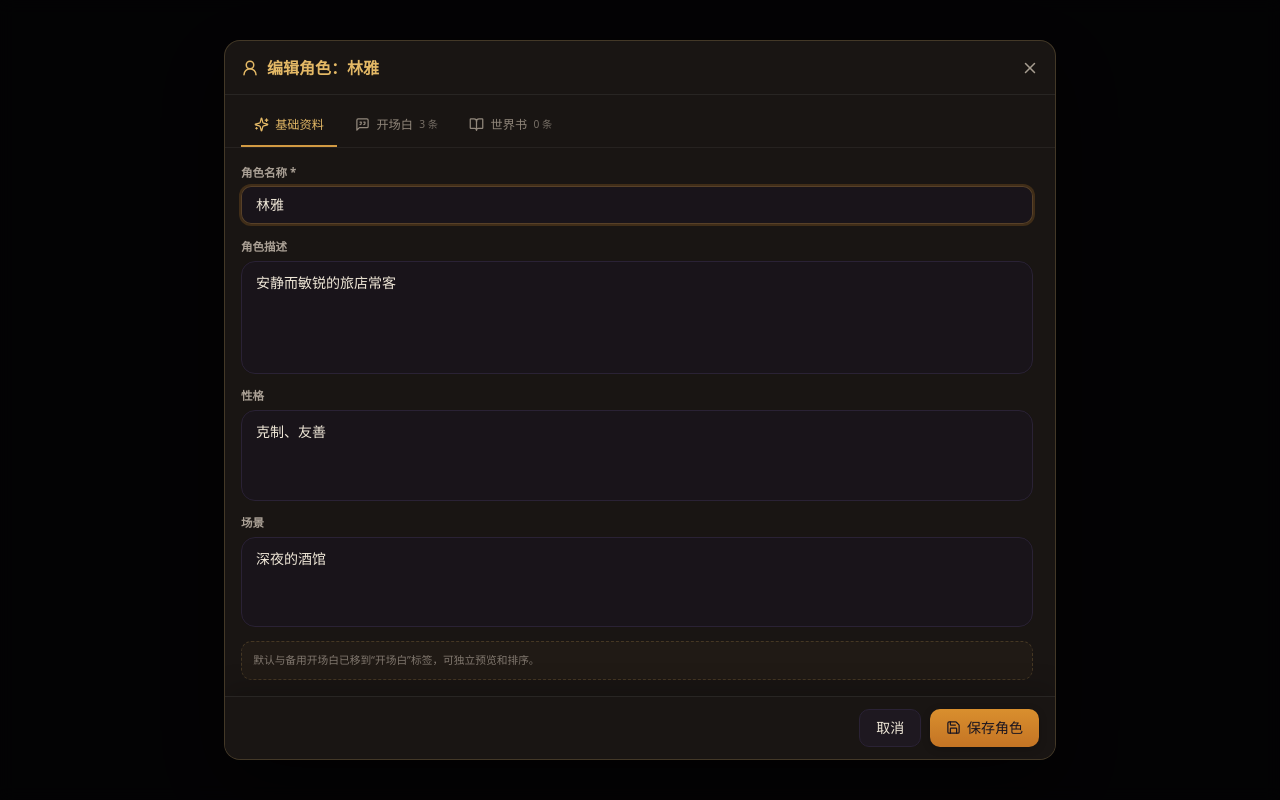
Test: CharacterManager › reorders alternate greetings and saves them with the character
Click the tab "开场白 3 条": {"x": 396, "y": 126} [342,106,451,146]
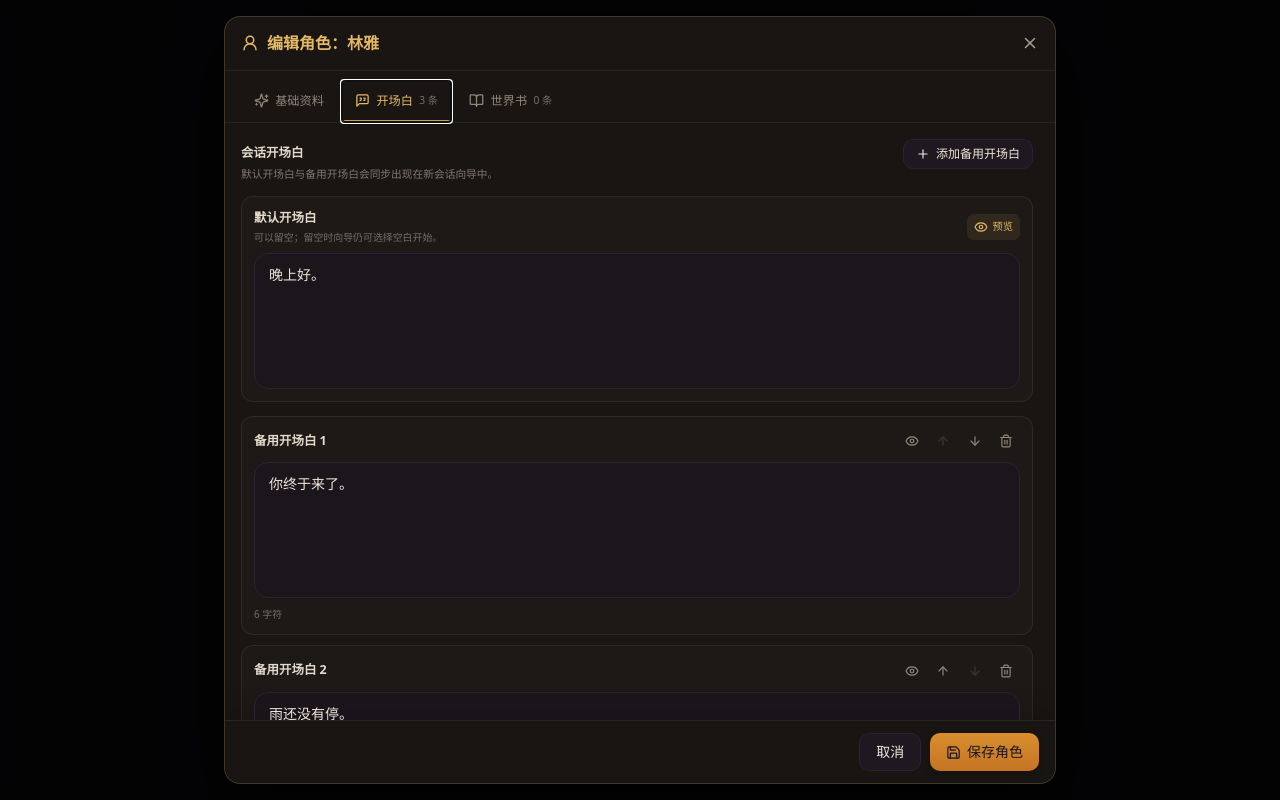
Now the text box named "默认开场白" holds "晚上好。", box [254,253,1020,389]
Now the text box named "备用开场白 1" holds "你终于来了。", box [254,462,1020,598]
Click the button named "下移备用开场白 1": {"x": 975, "y": 441} [961,429,989,454]
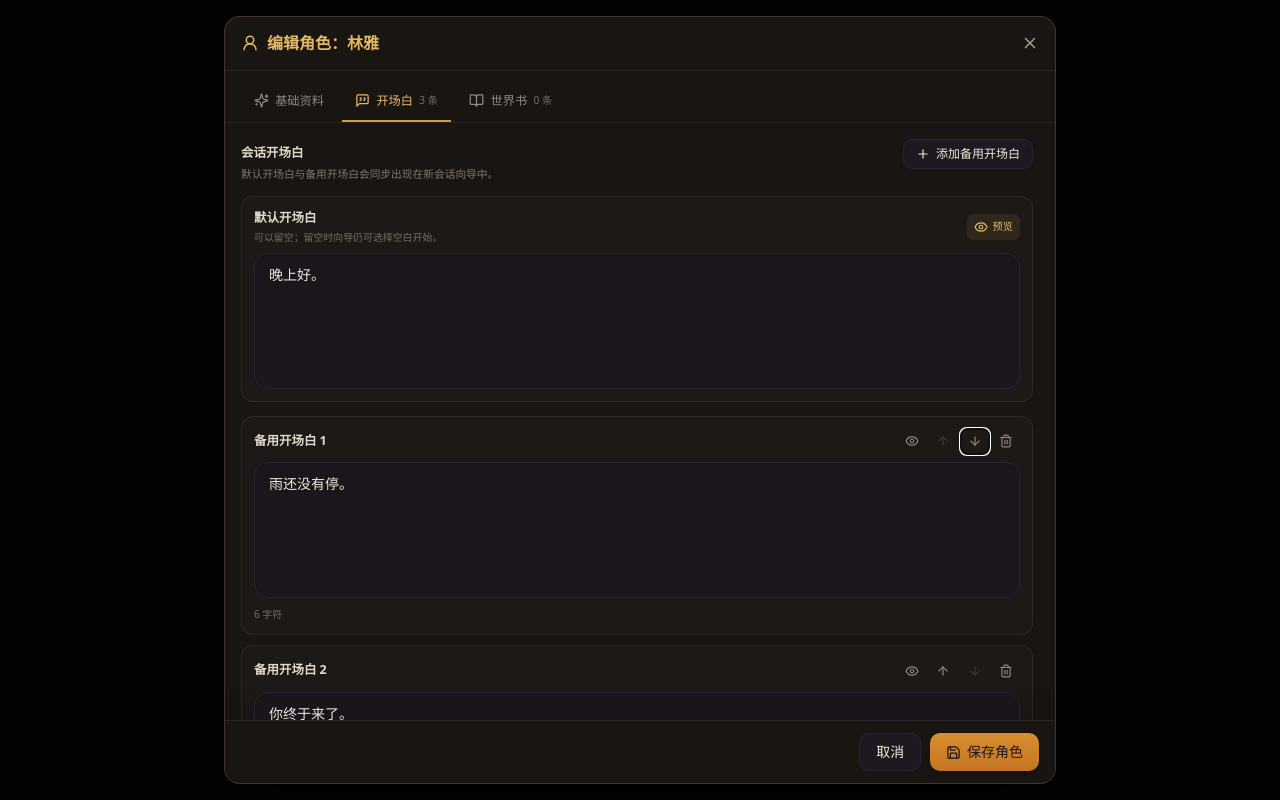
Click the button "保存角色": {"x": 984, "y": 752} [930,733,1039,771]
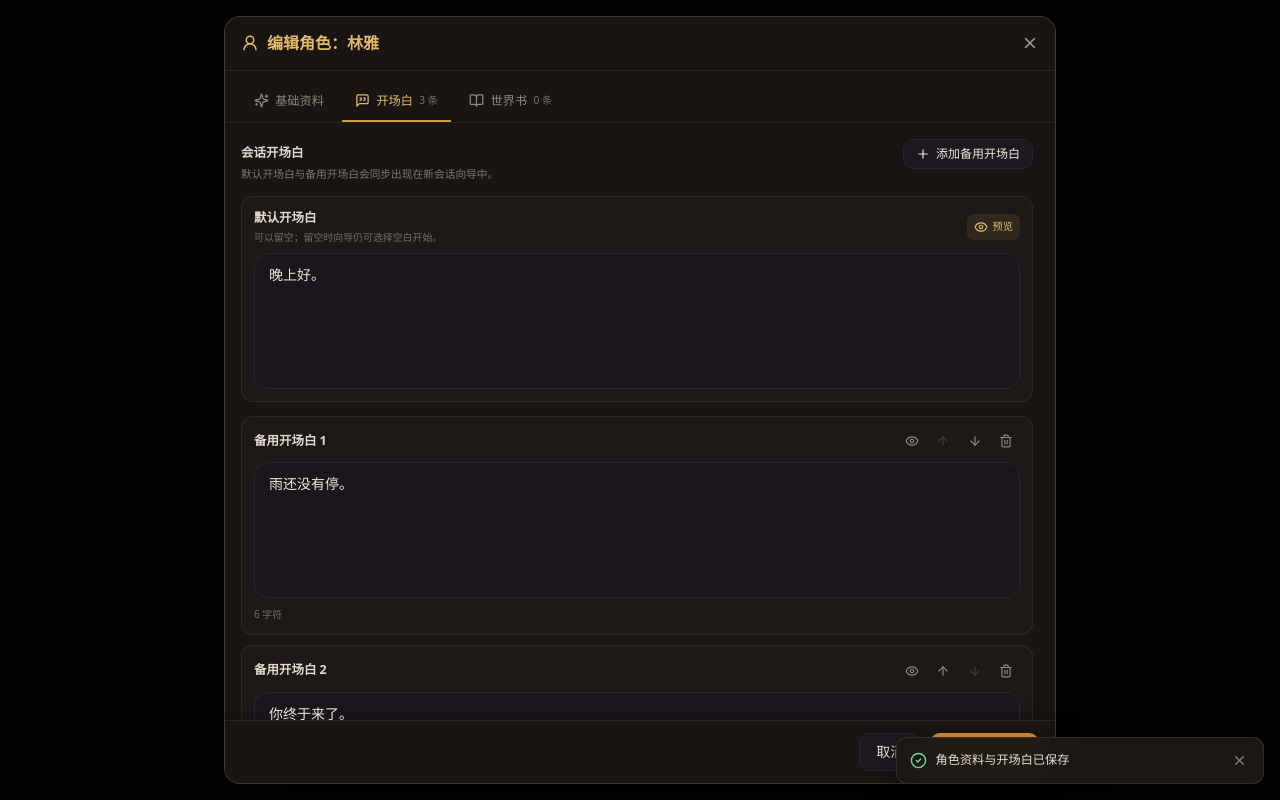
Now the text "角色资料与开场白已保存" is shown, box [936,751,1069,768]
